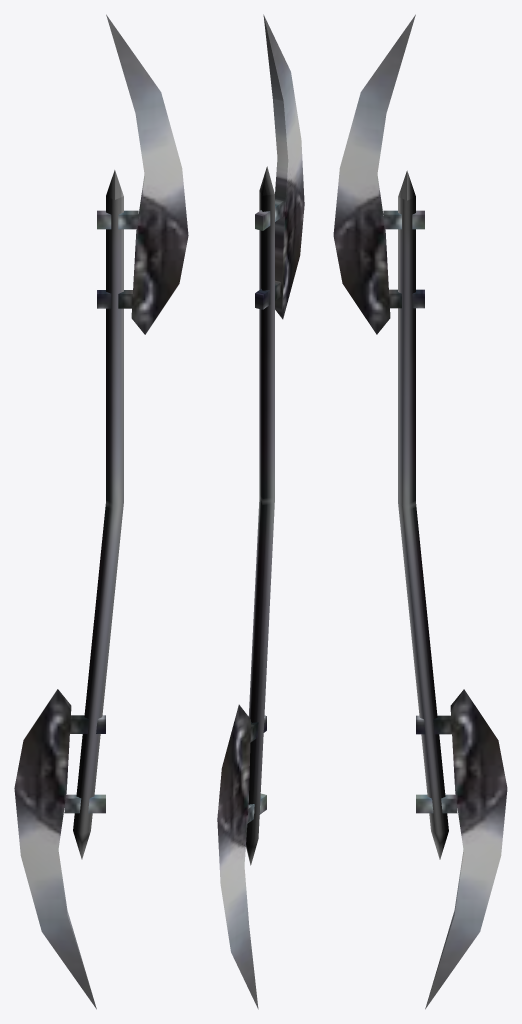
Rendered from Spear08.glb.
3 views of the same model, side by side, from view 1: azimuth 90°, elevation 25°; view 2: azimuth 150°, elevation 25°; view 3: azimuth 270°, elevation 25° (orthographic).
Parts seen in each view (by area): view 1: model_Spear08; view 2: model_Spear08; view 3: model_Spear08.
Part boxes in pixels (x1=…): model_Spear08: x1=14, y1=14, x2=188, y2=1009; model_Spear08: x1=217, y1=14, x2=304, y2=1009; model_Spear08: x1=333, y1=14, x2=507, y2=1009.
Bounding box in the file's own units: 0.045 × 2.75 × 0.4352.
Materials: 1 (1 with a texture image).
